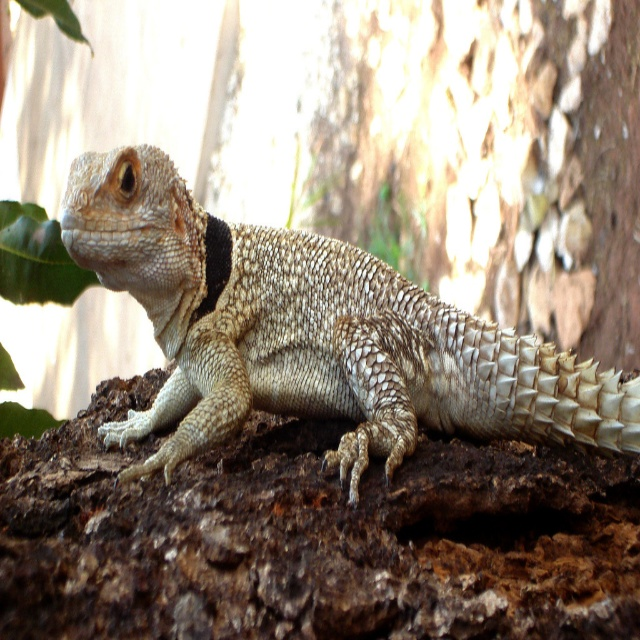Lizard: (75, 135, 637, 544)
